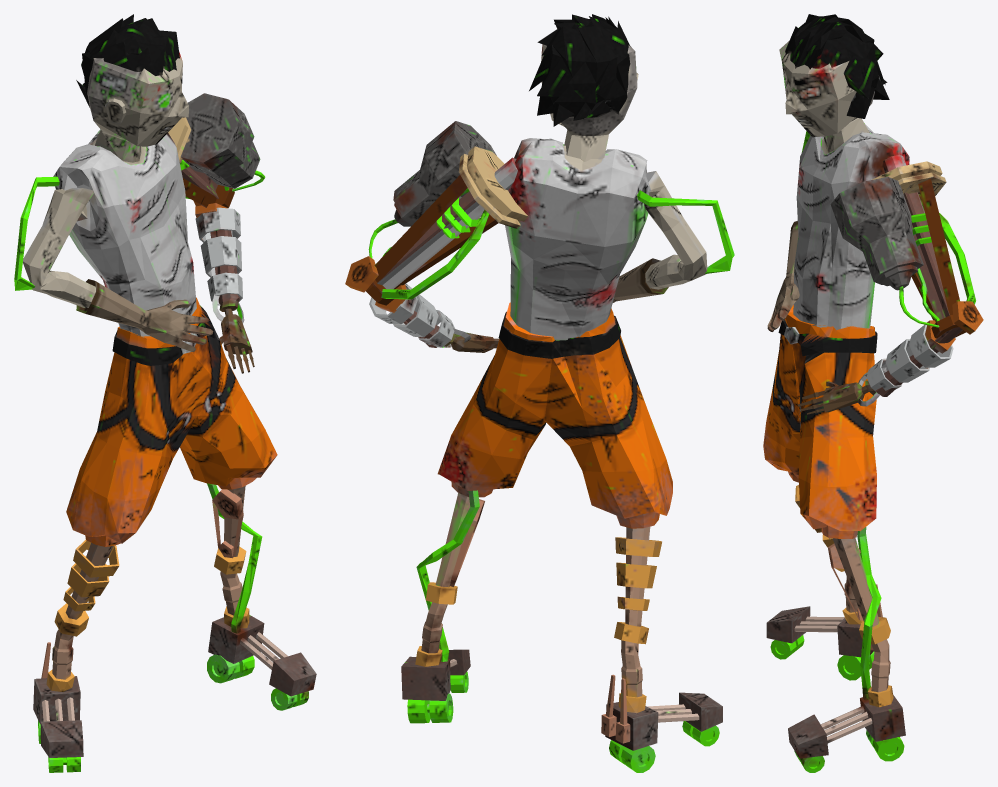
The model's file is CyborgFINALAnimation_000101.obj.
The picture shows the model from 3 angles, left to right: view 1: azimuth 30°, elevation 25°; view 2: azimuth 150°, elevation 25°; view 3: azimuth 270°, elevation 25°; orthographic projection. The views are drawn at different scales.
Parts seen in each view (by area): view 1: CyborgMesh_Cube.002; view 2: CyborgMesh_Cube.002; view 3: CyborgMesh_Cube.002.
Part boxes in pixels (<box>): CyborgMesh_Cube.002: <box>14,14,316,772</box>; CyborgMesh_Cube.002: <box>345,14,734,772</box>; CyborgMesh_Cube.002: <box>763,14,983,772</box>.
Size of the model in its own units: 4.25 by 9.6 by 2.8.
